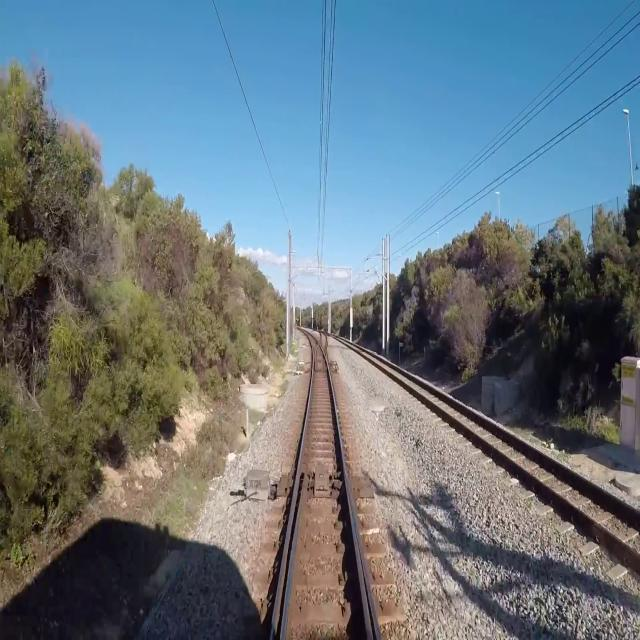rail-track: (368, 354, 640, 549), (275, 348, 367, 639), (297, 331, 311, 425), (321, 335, 325, 348)
